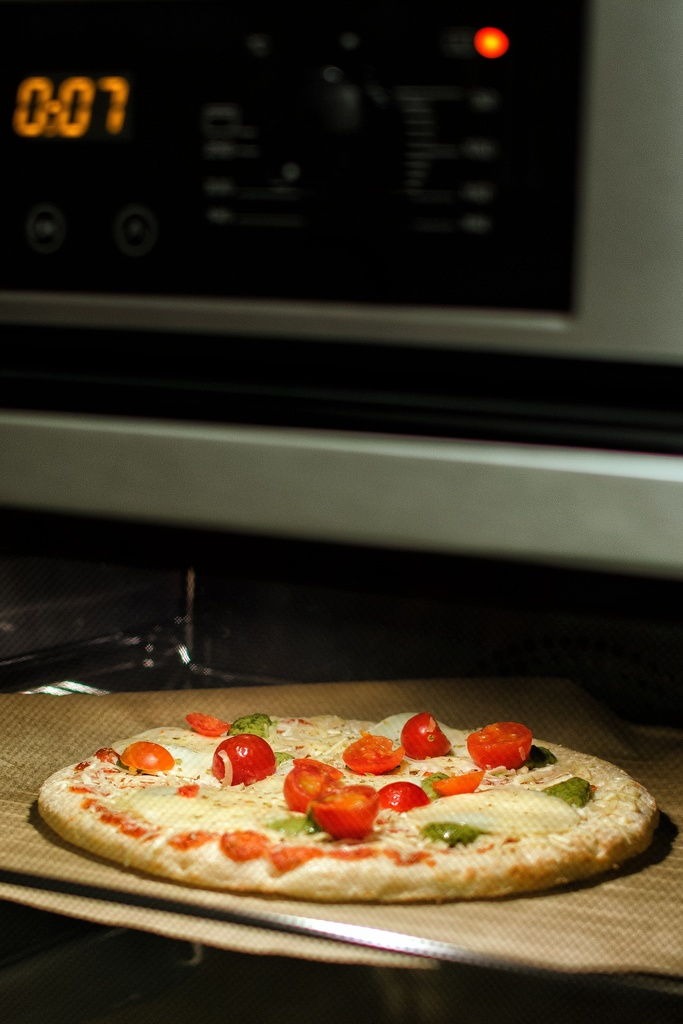pizza: (33, 708, 666, 911)
